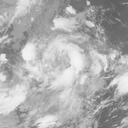cyclone: (44, 33, 95, 90)
